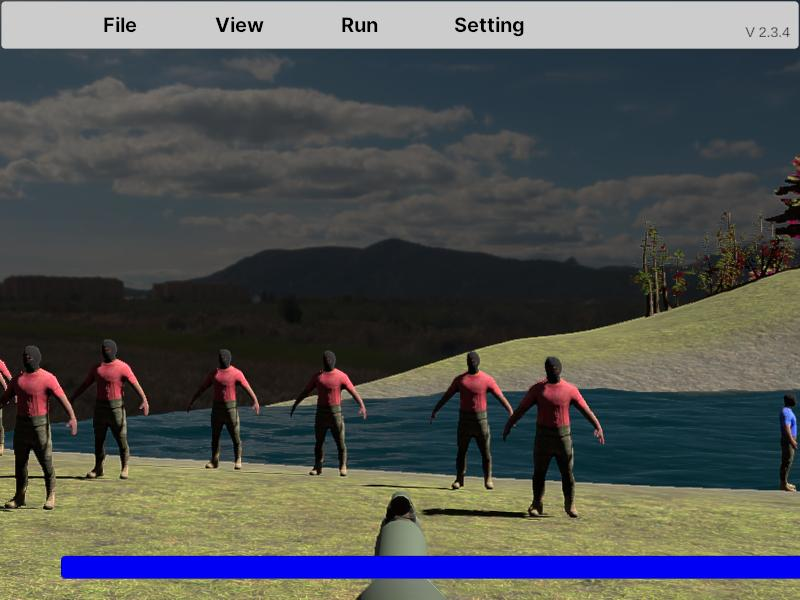Human: (503, 355, 603, 519), (1, 342, 77, 513), (430, 349, 514, 490), (72, 337, 148, 481), (291, 349, 366, 478), (188, 347, 259, 471), (779, 392, 800, 494), (779, 391, 800, 493), (780, 392, 800, 495), (0, 330, 13, 461)
